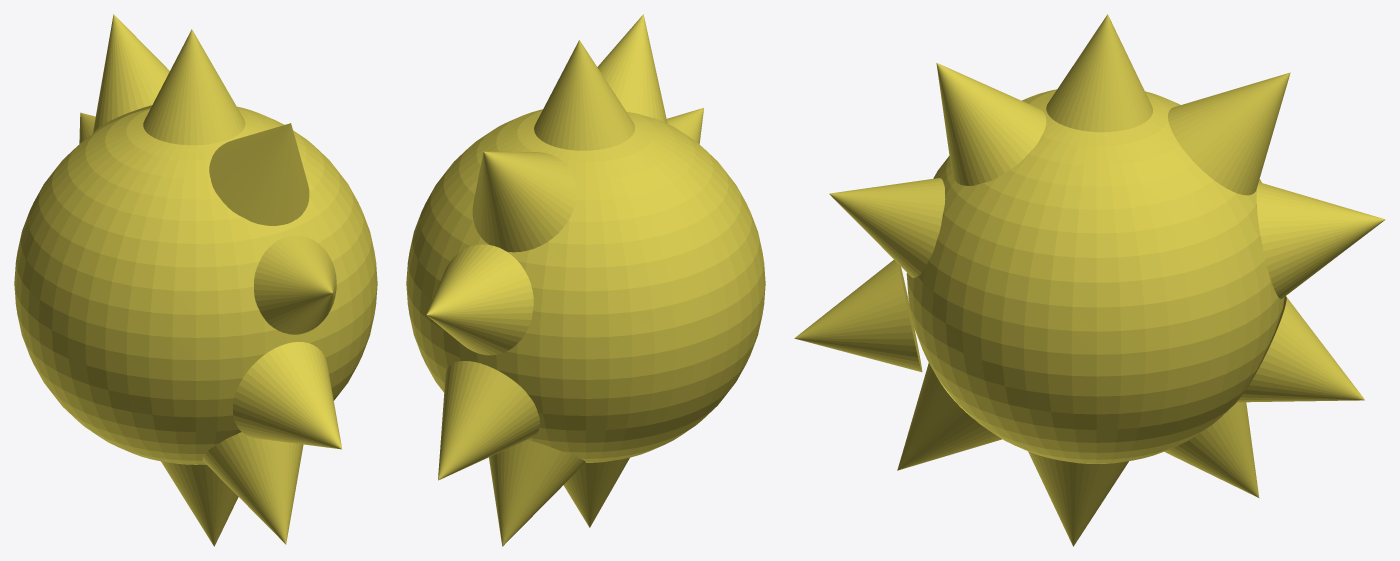
The model's file is sol.glb.
The picture shows the model from 3 angles, left to right: view 1: azimuth 30°, elevation 25°; view 2: azimuth 150°, elevation 25°; view 3: azimuth 270°, elevation 25°; orthographic projection. The views are drawn at different scales.
Visible parts, largest first — view 1: Mesh_Mesh_head_geo.001_lambert2SG.001; view 2: Mesh_Mesh_head_geo.001_lambert2SG.001; view 3: Mesh_Mesh_head_geo.001_lambert2SG.001.
Part boxes in pixels (x1=…): Mesh_Mesh_head_geo.001_lambert2SG.001: x1=14, y1=14, x2=377, y2=546; Mesh_Mesh_head_geo.001_lambert2SG.001: x1=406, y1=14, x2=765, y2=546; Mesh_Mesh_head_geo.001_lambert2SG.001: x1=794, y1=14, x2=1385, y2=546.
Bounding box in the file's own units: 0.064 × 0.0986 × 0.0998.
